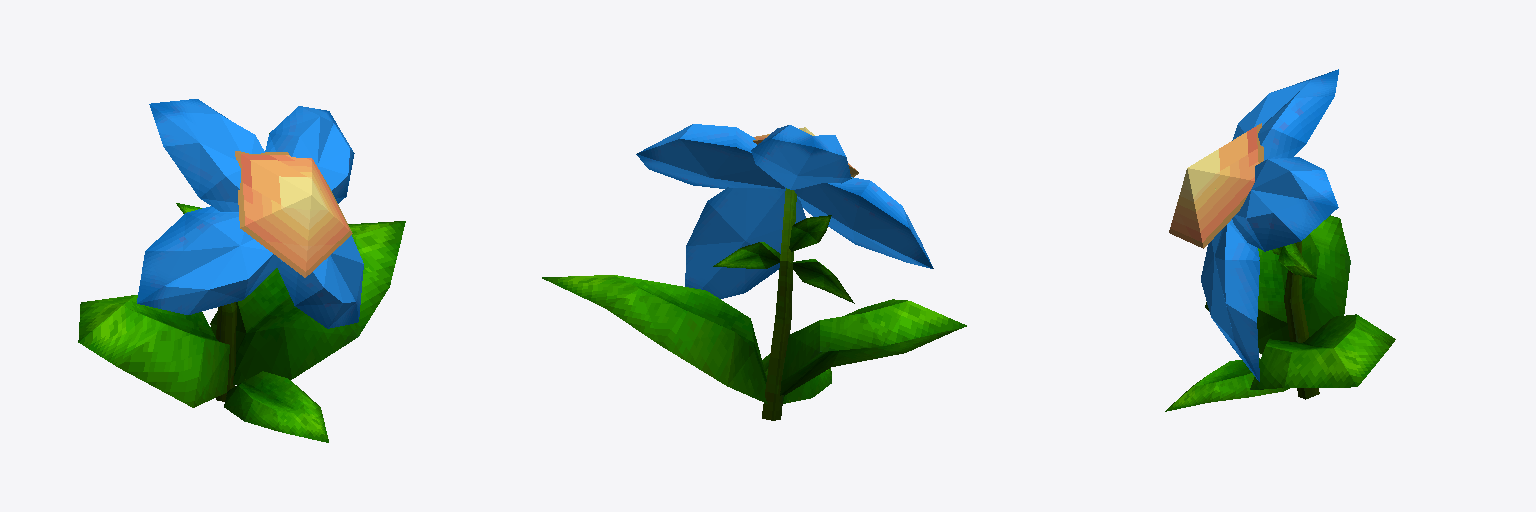
The picture shows the model from 3 angles: view 1: azimuth 30°, elevation 25°; view 2: azimuth 150°, elevation 25°; view 3: azimuth 270°, elevation 25°; orthographic projection.
Parts seen in each view (by area): view 1: Inst3D27_RefRep.226_Inst3D27_RefRep.000; view 2: Inst3D27_RefRep.226_Inst3D27_RefRep.000; view 3: Inst3D27_RefRep.226_Inst3D27_RefRep.000.
Boxes of the visible parts, <box> form: Inst3D27_RefRep.226_Inst3D27_RefRep.000: <box>78,99,405,442</box>; Inst3D27_RefRep.226_Inst3D27_RefRep.000: <box>542,124,966,420</box>; Inst3D27_RefRep.226_Inst3D27_RefRep.000: <box>1165,69,1395,411</box>.
Bounding box in the file's own units: 3.95 × 2.99 × 2.11.
1 materials, 1 textured.